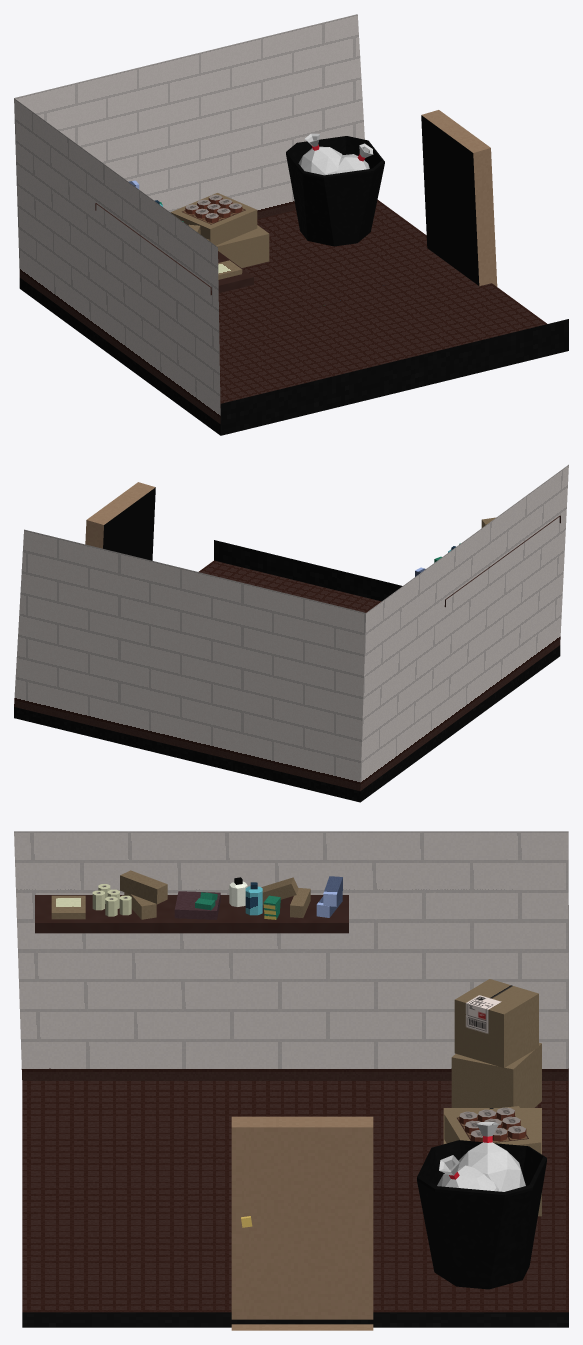
Rendered from gasStation_EMP.glb.
The picture shows the model from 3 angles, top to bottom: view 1: azimuth 30°, elevation 25°; view 2: azimuth 150°, elevation 25°; view 3: azimuth 270°, elevation 25°; orthographic projection. The views are drawn at different scales.
Visible parts, largest first — view 1: room-col, empDoor, trashCan-col, drinks-col, trash-col, boxLong-col, shelf-col; view 2: room-col, empDoor; view 3: room-col, empDoor, trashCan-col, leftItems-col.001, shelf-col, box2-col, box1-col, trash-col, drinks-col, boxLong-col.
Part boxes in pixels (box(x1,y1,x2,y2)): room-col: box(14, 14, 568, 435); empDoor: box(421, 110, 497, 286); trashCan-col: box(286, 136, 384, 246); drinks-col: box(170, 193, 257, 245); trash-col: box(298, 133, 373, 175); boxLong-col: box(216, 225, 269, 267); shelf-col: box(95, 203, 253, 294); room-col: box(14, 464, 568, 802); empDoor: box(85, 482, 155, 560); room-col: box(14, 831, 568, 1327); empDoor: box(231, 1116, 373, 1330); trashCan-col: box(417, 1140, 546, 1289); leftItems-col.001: box(51, 870, 342, 919); shelf-col: box(35, 895, 348, 933); box2-col: box(454, 979, 538, 1067); box1-col: box(451, 1043, 541, 1107); trash-col: box(437, 1122, 525, 1191); drinks-col: box(444, 1106, 541, 1153); boxLong-col: box(443, 1108, 541, 1216).
Bounding box in the file's own units: 5.07 × 2.59 × 4.98.
10 materials, 10 textured.
